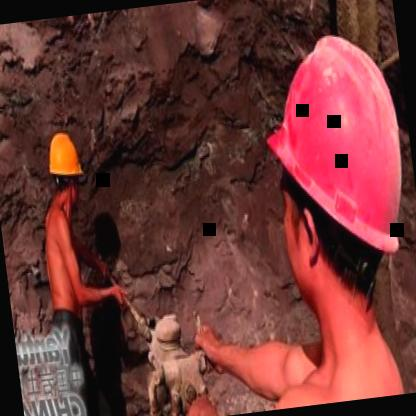helmet: (228, 14, 416, 387), (38, 120, 86, 220)
